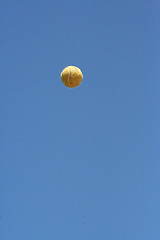tennis ball: (59, 65, 84, 89)
